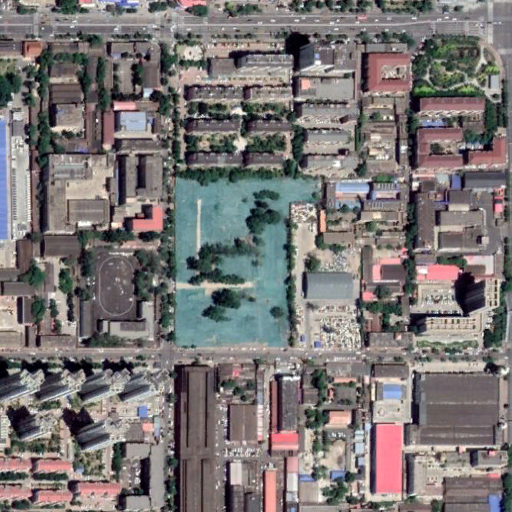cw: (174, 167, 326, 347)
